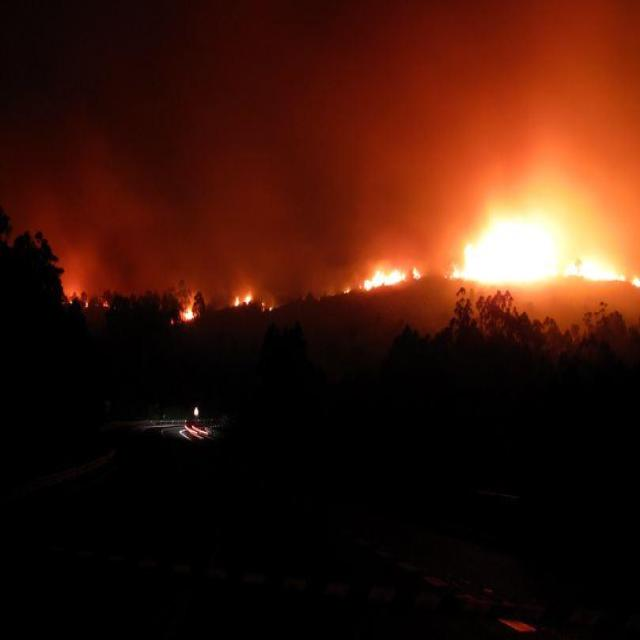Fire: (467, 210, 636, 288), (344, 266, 408, 294), (229, 278, 268, 310), (66, 286, 110, 314), (177, 296, 198, 324)
